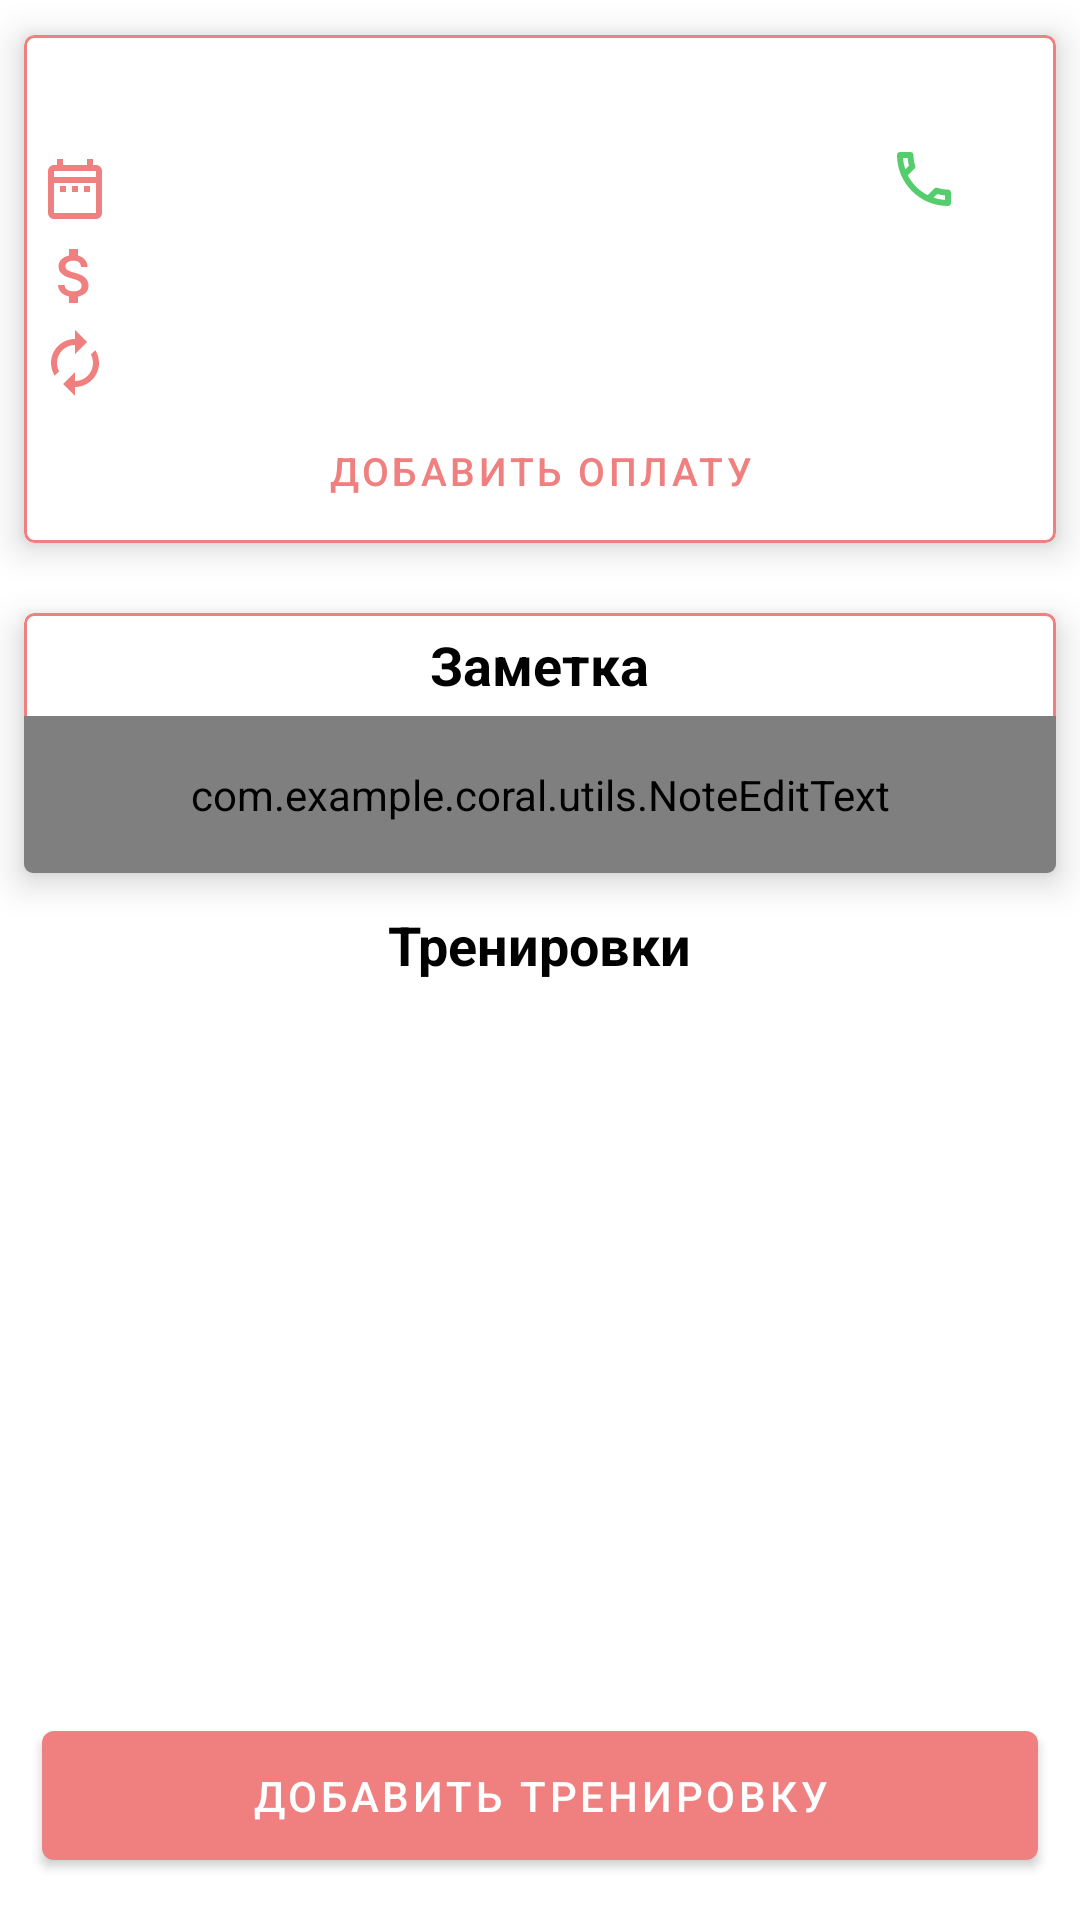

Icon click points for this 1080x1920 phone screenshot, format [x,y]:
call: [924,179]
